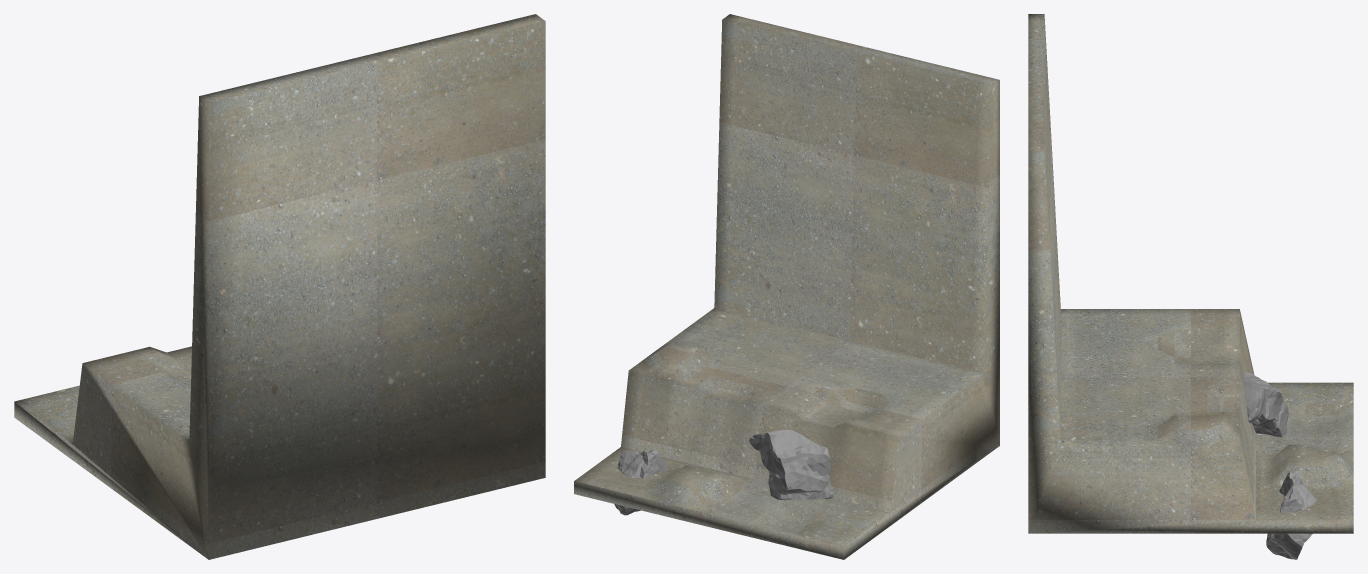
Rendered from left3.fbx.
3 renders of one model, left to right at view 1: azimuth 30°, elevation 25°; view 2: azimuth 150°, elevation 25°; view 3: azimuth 270°, elevation 25°, orthographic. The views are drawn at different scales.
Visible parts, largest first — view 1: Model; view 2: Model, skp59B9_2, skp59B9_1; view 3: Model, skp59B9_2, skp59B9_1.
Boxes of the visible parts, bbox=[...] form: Model: bbox=[14, 14, 545, 559]; Model: bbox=[574, 14, 999, 559]; skp59B9_2: bbox=[749, 430, 833, 500]; skp59B9_1: bbox=[614, 450, 668, 515]; Model: bbox=[1028, 14, 1353, 533]; skp59B9_2: bbox=[1243, 372, 1288, 437]; skp59B9_1: bbox=[1266, 472, 1316, 559].
Bounding box in the file's own units: 1000 × 1425 × 1000.
